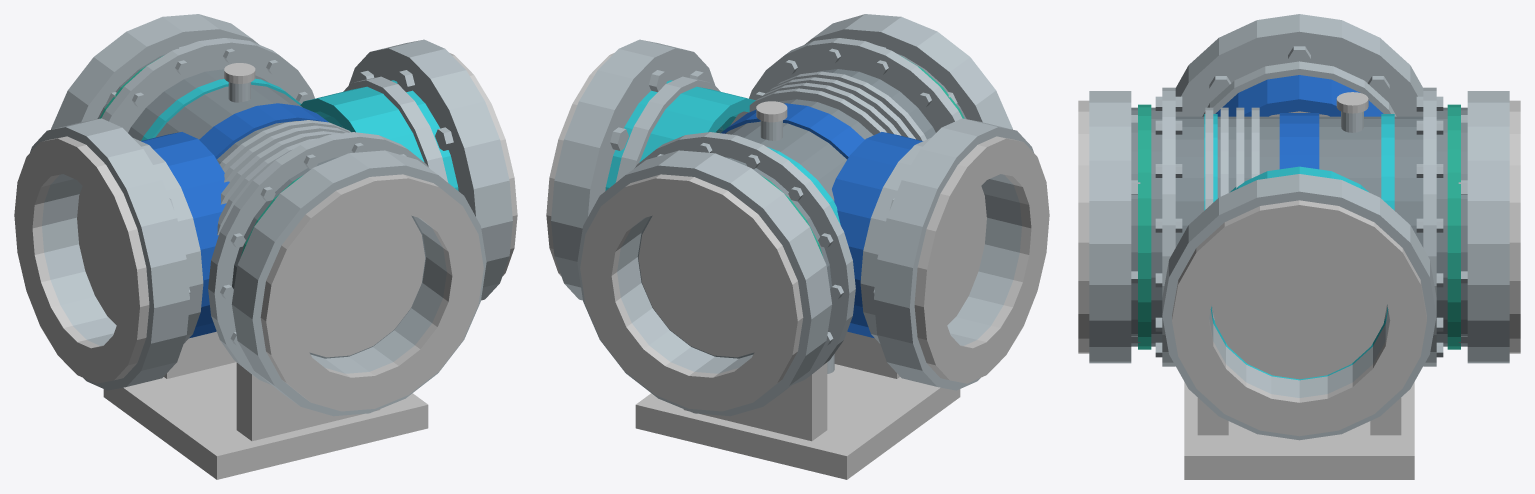
Rendered from body.obj.
3 renders of one model, left to right at view 1: azimuth 30°, elevation 25°; view 2: azimuth 150°, elevation 25°; view 3: azimuth 270°, elevation 25°, orthographic.
Bounding box in the file's own units: 1 × 0.82 × 1.
